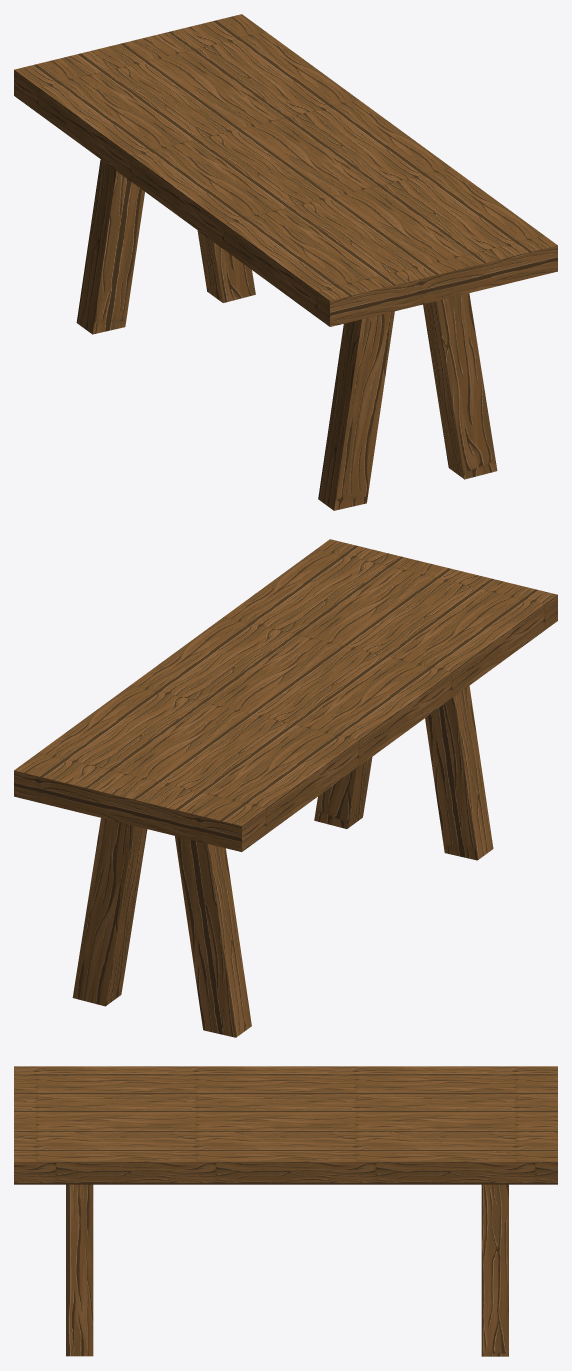
The model's file is Table.fbx.
3 views of the same model, one above another, from view 1: azimuth 30°, elevation 25°; view 2: azimuth 150°, elevation 25°; view 3: azimuth 270°, elevation 25° (orthographic). The views are drawn at different scales.
Parts seen in each view (by area): view 1: Cube; view 2: Cube; view 3: Cube.
Part boxes in pixels (bbox=[...]): Cube: bbox=[14, 14, 557, 510]; Cube: bbox=[14, 539, 557, 1037]; Cube: bbox=[14, 1066, 557, 1356].
Size of the model in its own units: 335 by 339 by 806.
